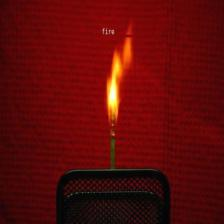fire: (101, 34, 135, 128)
